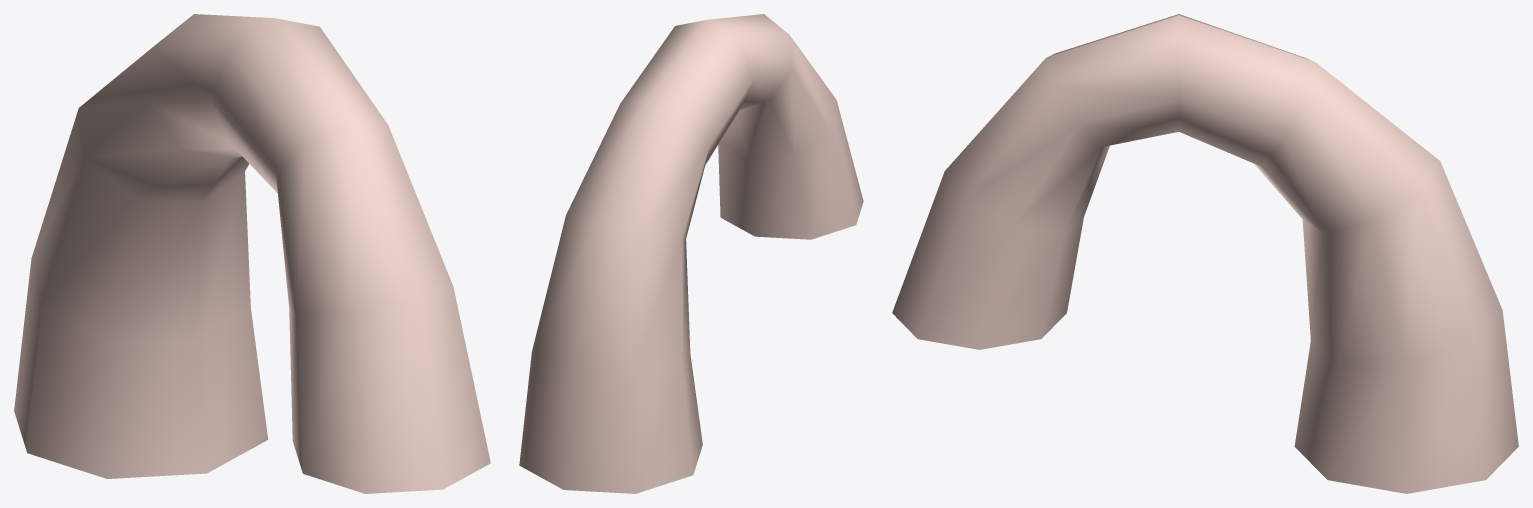
3 views of the same model, side by side, from view 1: azimuth 30°, elevation 25°; view 2: azimuth 150°, elevation 25°; view 3: azimuth 270°, elevation 25° (orthographic). The views are drawn at different scales.
Visible parts, largest first — view 1: Object76; view 2: Object76; view 3: Object76.
Part boxes in pixels (x1,y1,x2,y2): Object76: (14,14,490,493); Object76: (519,14,863,493); Object76: (892,14,1518,493).
Size of the model in its own units: 74.66 by 158 by 209.
